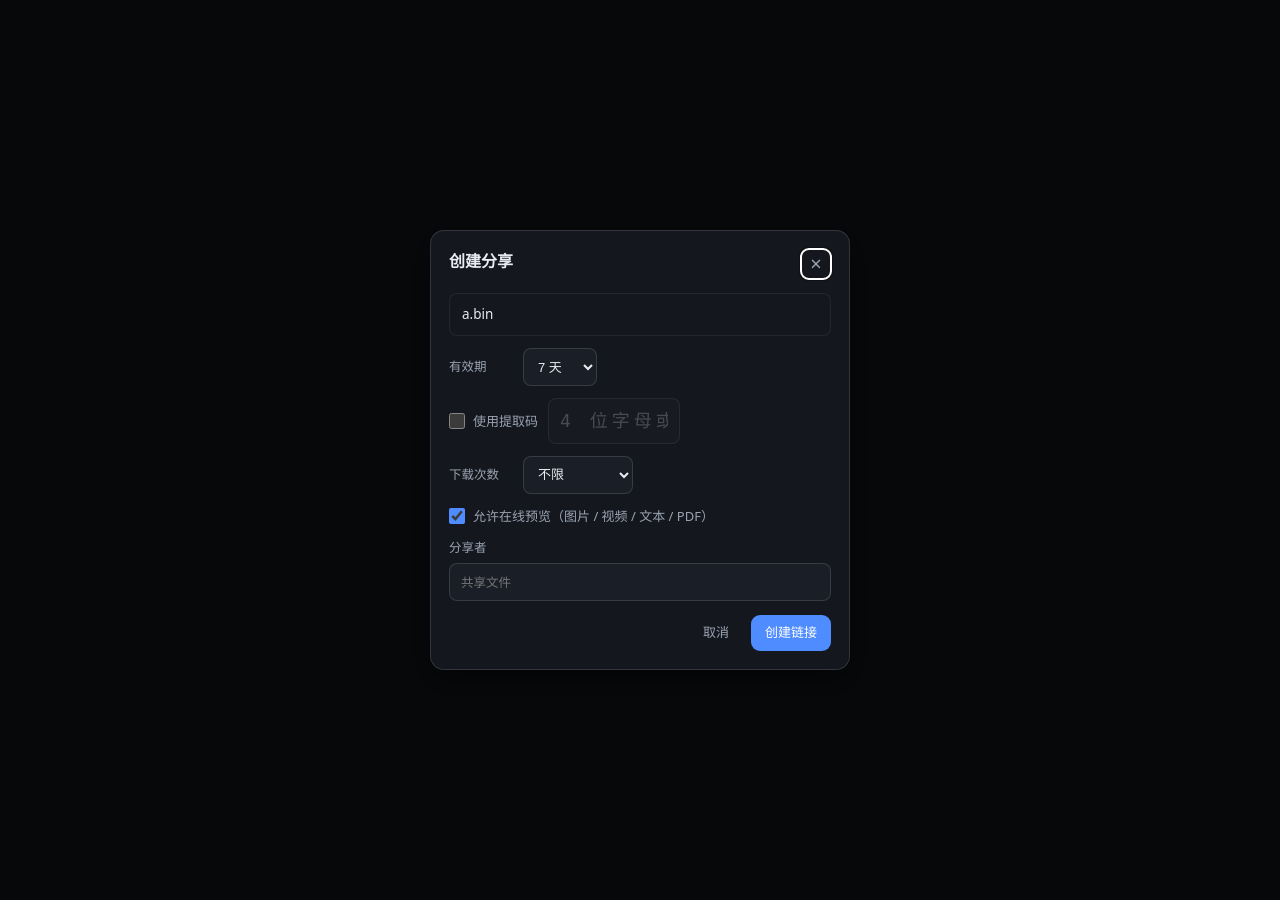
Test: ShareCreateDialog › 提取码不合法时阻止提交并提示
Click the checkbox with test id "share-code-enable".
click(457, 421)  # box [449,413,465,429]
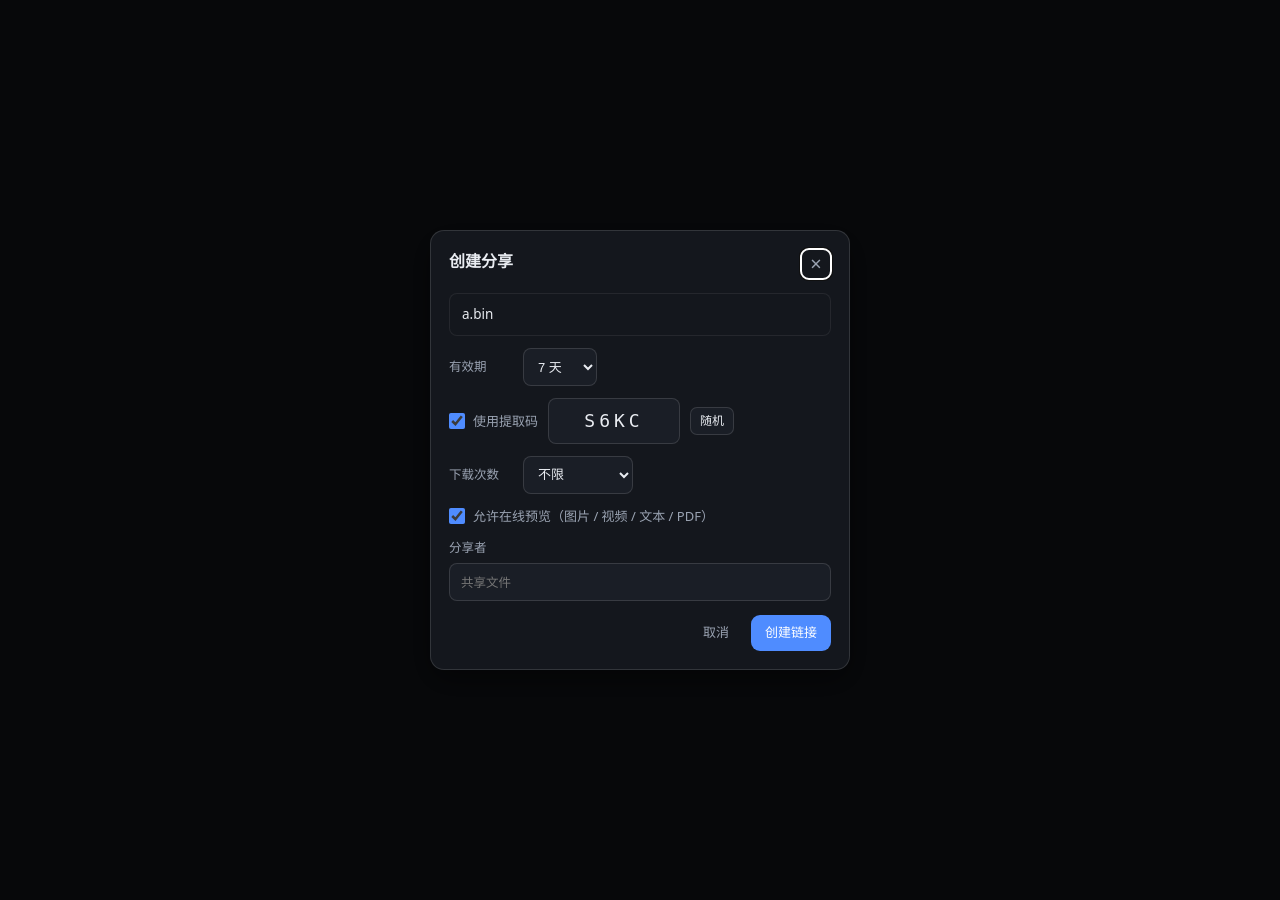
Replace the text in the field with test id "share-code" with "A" at (614, 421), box [548,398,680,444]
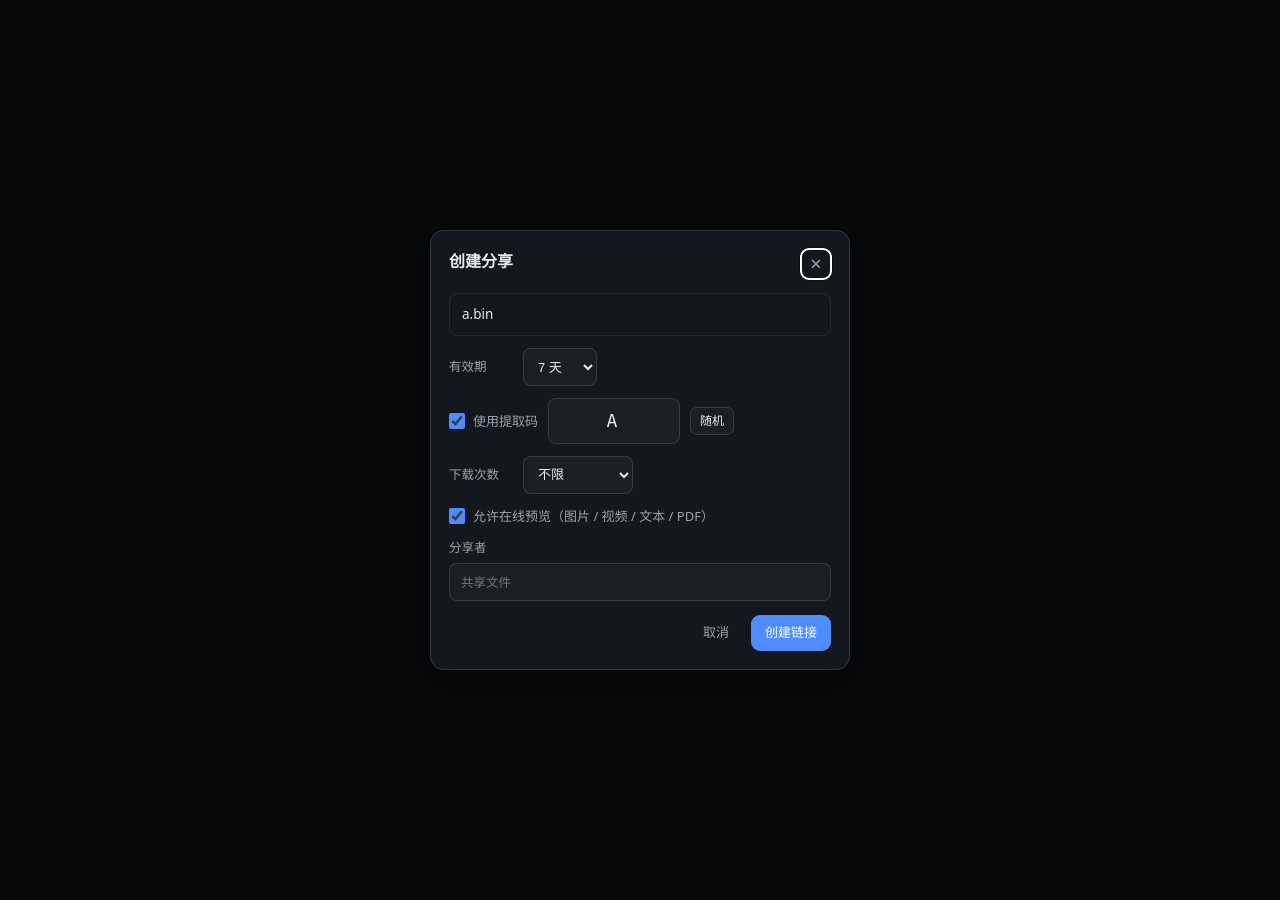
Submit the form with id "share-create-form", box [449,293,831,601]
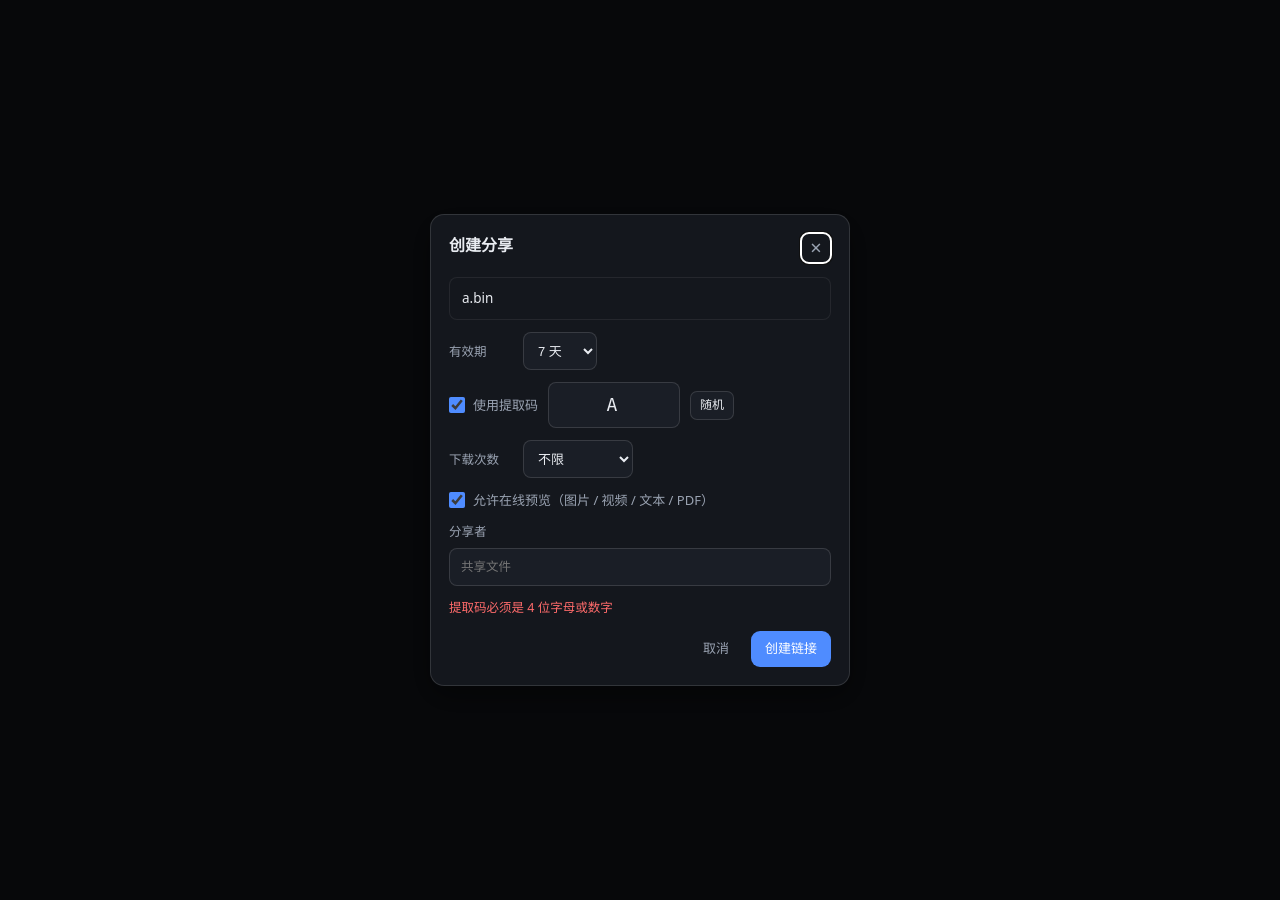
Now the text "提取码必须是 4 位字母或数字" is shown, box [449,599,613,616]
